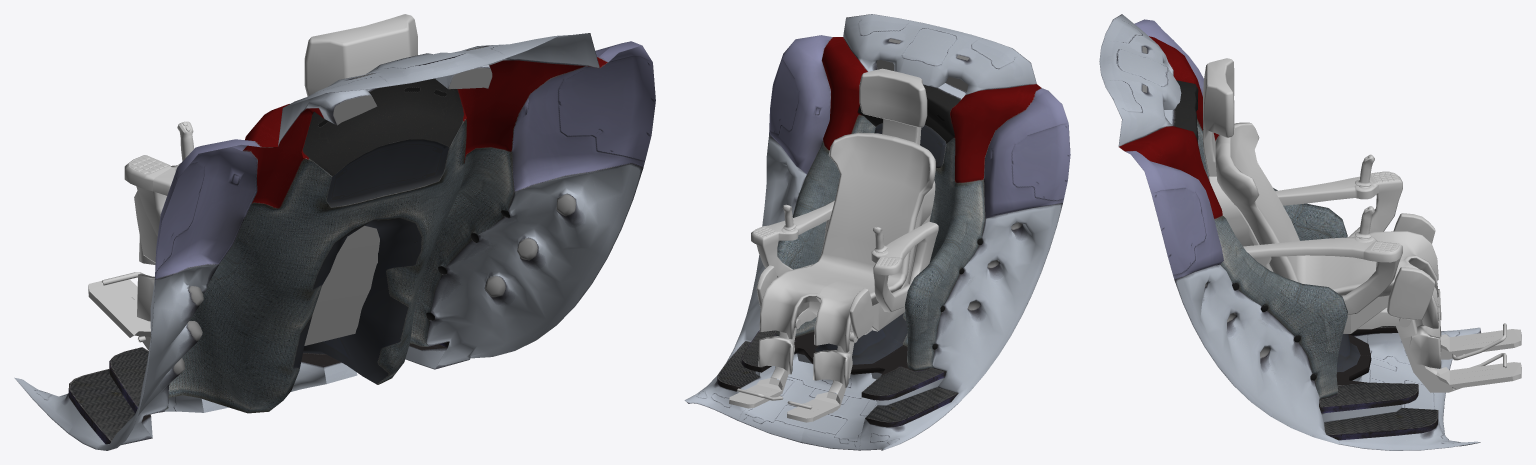
The model's file is cockpit.fbx.
3 renders of one model, left to right at view 1: azimuth 30°, elevation 25°; view 2: azimuth 150°, elevation 25°; view 3: azimuth 270°, elevation 25°, orthographic. The views are drawn at different scales.
Visible parts, largest first — view 1: salon, poly_Kreslo; view 2: salon, poly_Kreslo; view 3: salon, poly_Kreslo.
Part boxes in pixels (x1,y1,x2,y2): salon: (14,33,655,450); poly_Kreslo: (88,14,417,350); salon: (684,14,1070,450); poly_Kreslo: (729,68,938,422); salon: (1099,14,1480,450); poly_Kreslo: (1203,58,1521,392).
Size of the model in its own units: 150 by 149 by 158.
